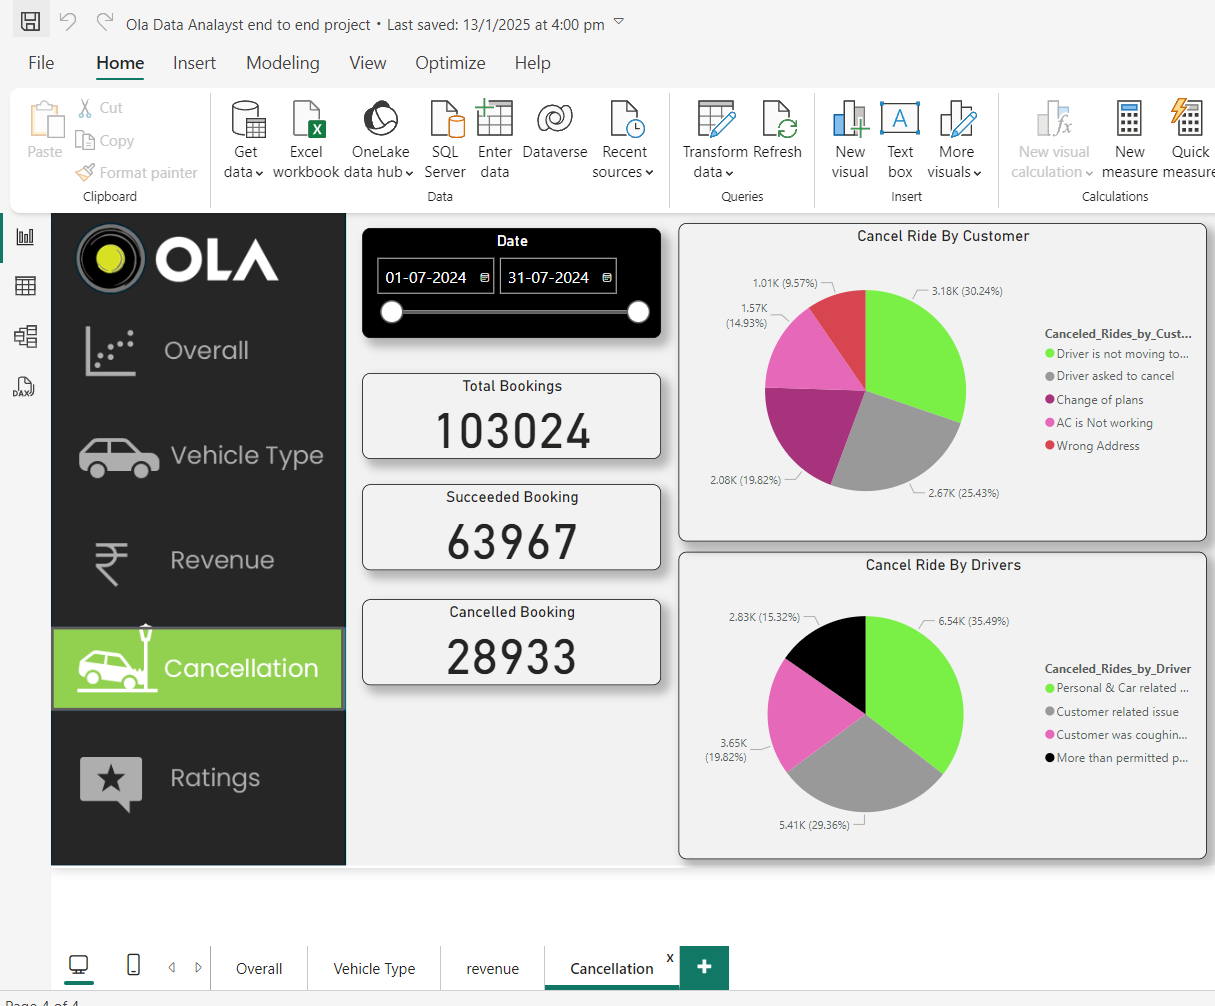

What the dashboard file says about the page in this screenshot:
{"tool":"powerbi","page":{"name":"Cancellation","canvas":[1280,720],"ordinal":3},"visuals":[{"type":"actionButton","box":[0,454,321.5,92],"z":0},{"type":"actionButton","box":[0,344.8,321.5,92],"z":1000},{"type":"actionButton","box":[0,581.6,321.5,92],"z":2000},{"type":"actionButton","box":[0,222.1,321.5,92],"z":3000},{"type":"actionButton","box":[0,111.7,321.5,92],"z":4000},{"type":"pieChart","title":"Cancel Ride By Customer","fields":{"Category":["Bookings-100000-Rows - July.Canceled_Rides_by_Customer"],"Y":["CountNonNull(Bookings-100000-Rows - July.Booking_Status)"]},"box":[688.5,11.4,580.1,349.2],"z":4001},{"type":"pieChart","title":"Cancel Ride By Drivers","fields":{"Category":["Bookings-100000-Rows - July.Canceled_Rides_by_Driver"],"Y":["CountNonNull(Bookings-100000-Rows - July.Canceled_Rides_by_Driver)"]},"box":[688.5,372,580.1,337.8],"z":4002},{"type":"slicer","title":"Date","fields":{"Values":["Bookings-100000-Rows - July.Date"]},"box":[341.7,16.5,328,120.8],"z":4003},{"type":"card","title":"Total Bookings","fields":{"Values":["CountNonNull(Bookings-100000-Rows - July.Booking_ID)"]},"box":[342.1,175.3,327.8,94.1],"z":4004},{"type":"card","title":" Succeeded Booking","fields":{"Values":["CountNonNull(Bookings-100000-Rows - July.Booking_ID)"]},"box":[342.1,297.9,327.8,94.1],"z":4005},{"type":"card","title":" Cancelled Booking","fields":{"Values":["CountNonNull(Bookings-100000-Rows - July.Booking_ID)"]},"box":[342.1,423.3,327.8,94.1],"z":4006}]}

Visuals, with their boxes on the page's 1280x720 design canvas (x1, y1, x2, y2). These are canvas units, not pixel positions in the 1215x1006 screenshot, which may show the page scaled, cropped or inside an application window:
actionButton: [0,454,322,546]
actionButton: [0,345,322,437]
actionButton: [0,582,322,674]
actionButton: [0,222,322,314]
actionButton: [0,112,322,204]
"Cancel Ride By Customer" pieChart: [688,11,1269,361]
"Cancel Ride By Drivers" pieChart: [688,372,1269,710]
"Date" slicer: [342,16,670,137]
"Total Bookings" card: [342,175,670,269]
" Succeeded Booking" card: [342,298,670,392]
" Cancelled Booking" card: [342,423,670,517]
